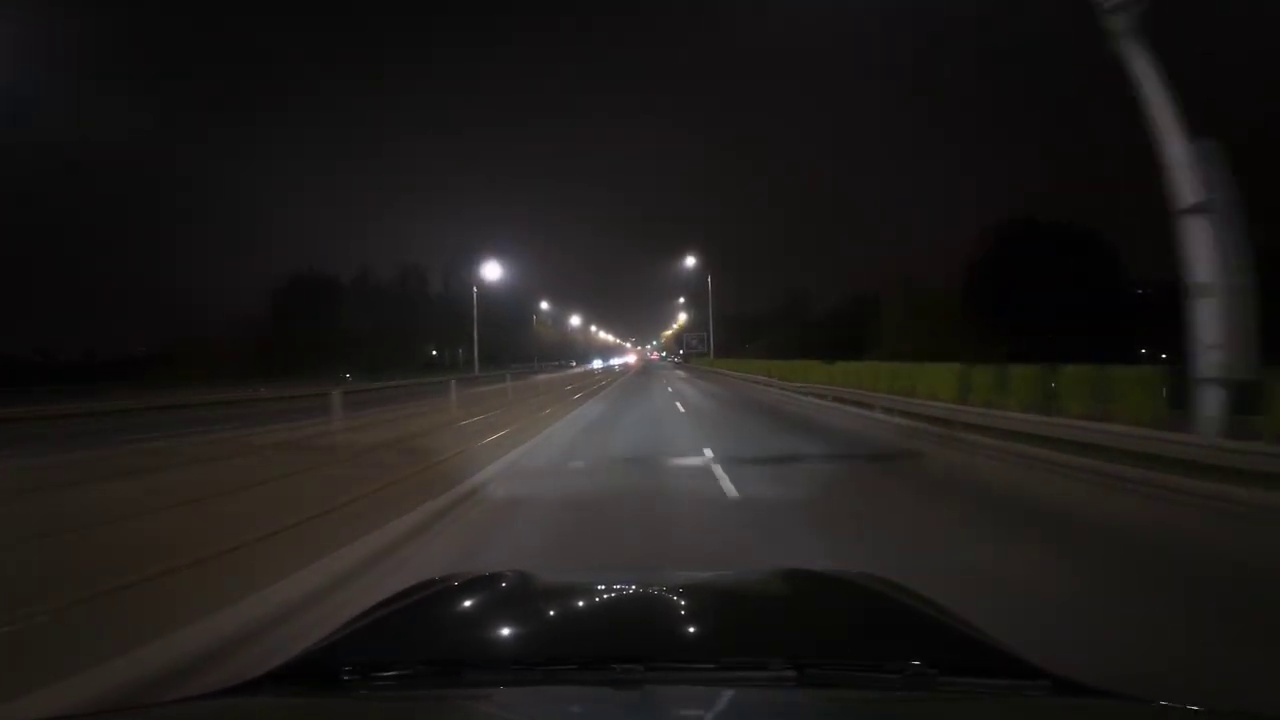acesa: (477, 256, 508, 286), (676, 251, 701, 274)
